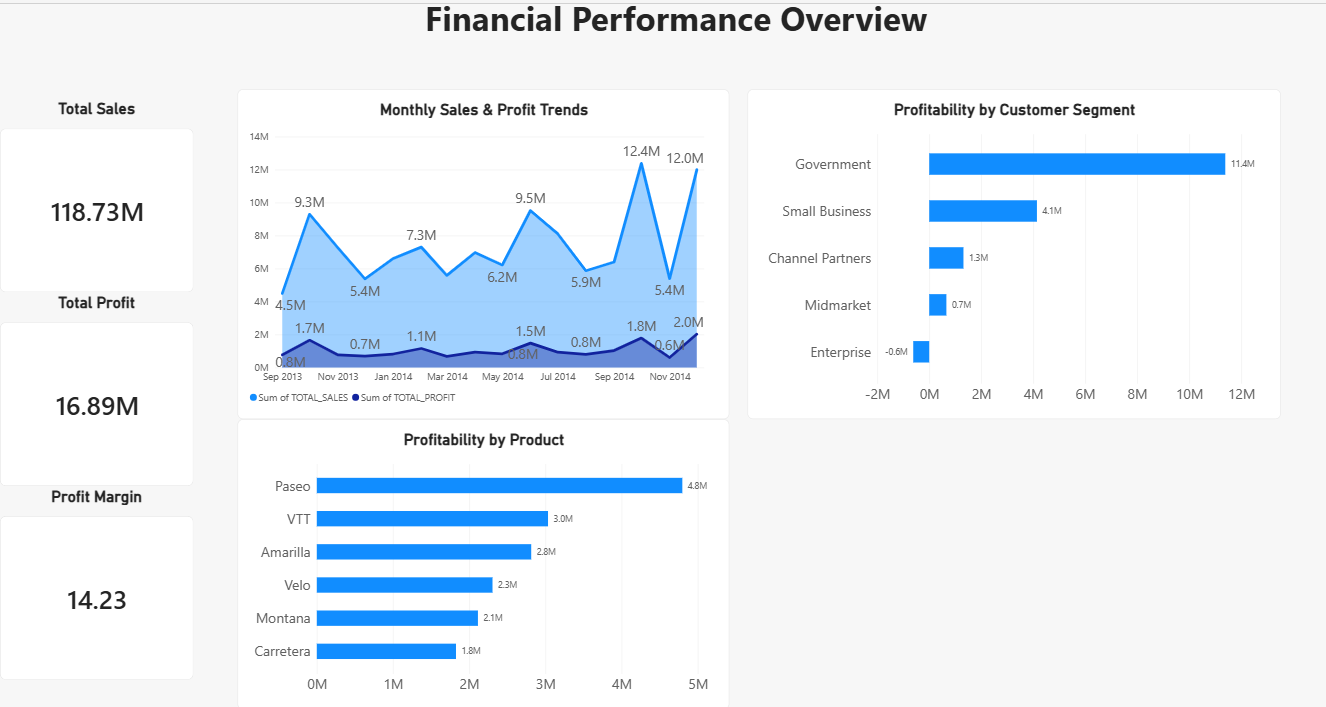

This screenshot's page, from the dashboard's own definition file:
{"tool":"powerbi","page":{"name":"Executive Overview","canvas":[1920,1080],"ordinal":0},"visuals":[{"type":"cardVisual","title":"Total Sales","fields":{"Data":["Sum(MART_MONTHLY_FINANCIALS.TOTAL_SALES)"]},"box":[0,197.6,280,280],"z":0},{"type":"cardVisual","title":"Total Profit","fields":{"Data":["Sum(MART_MONTHLY_FINANCIALS.TOTAL_PROFIT)"]},"box":[0,477.5,280,280],"z":1000},{"type":"cardVisual","title":"Profit Margin","fields":{"Data":["MART_MONTHLY_FINANCIALS.Overall Profit Margin %"]},"box":[0,757.5,280,280],"z":2000},{"type":"lineChart","title":"Monthly Sales & Profit Trends","fields":{"Category":["MART_MONTHLY_FINANCIALS.MONTH_START_DATE"],"Y":["Sum(MART_MONTHLY_FINANCIALS.TOTAL_SALES)","Sum(MART_MONTHLY_FINANCIALS.TOTAL_PROFIT)"]},"box":[343.7,183.2,712.2,477.5],"z":3000},{"type":"clusteredBarChart","title":"Profitability by Customer Segment","fields":{"Category":["MART_SEGMENT_PROFITABILITY.SEGMENT"],"Y":["Sum(MART_SEGMENT_PROFITABILITY.TOTAL_PROFIT)"]},"box":[1082.7,183.2,771.9,477.5],"z":4000},{"type":"clusteredBarChart","title":"Profitability by Product","fields":{"Category":["FCT_PROFITABILITY.PRODUCT"],"Y":["Sum(FCT_PROFITABILITY.TOTAL_PROFIT)"]},"box":[343.7,660.7,712.2,419.9],"z":5000},{"type":"textbox","box":[508.4,47.3,940.7,96.7],"z":6000}]}

Visuals, with their boxes on the page's 1920x1080 design canvas (x1, y1, x2, y2). These are canvas units, not pixel positions in the 1326x707 screenshot, which may show the page scaled, cropped or inside an application window:
"Total Sales" cardVisual: select_region(0, 198, 280, 478)
"Total Profit" cardVisual: select_region(0, 478, 280, 758)
"Profit Margin" cardVisual: select_region(0, 758, 280, 1038)
"Monthly Sales & Profit Trends" lineChart: select_region(344, 183, 1056, 661)
"Profitability by Customer Segment" clusteredBarChart: select_region(1083, 183, 1855, 661)
"Profitability by Product" clusteredBarChart: select_region(344, 661, 1056, 1081)
textbox: select_region(508, 47, 1449, 144)
